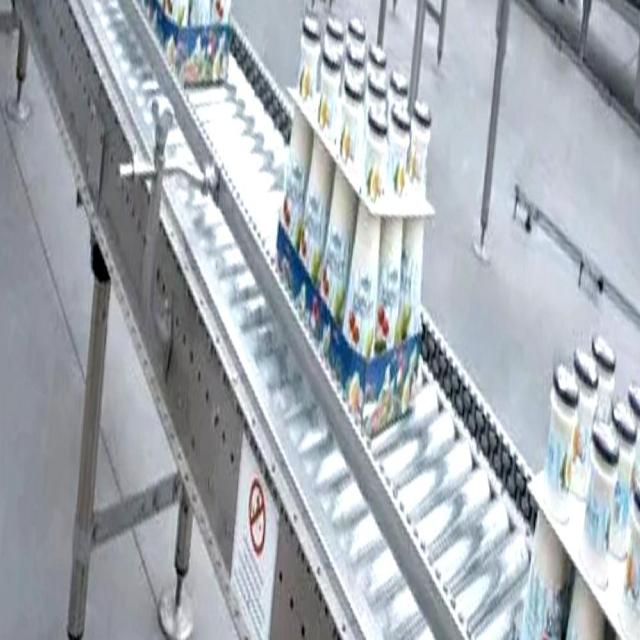bottle: (274, 8, 435, 438), (523, 326, 640, 639)
